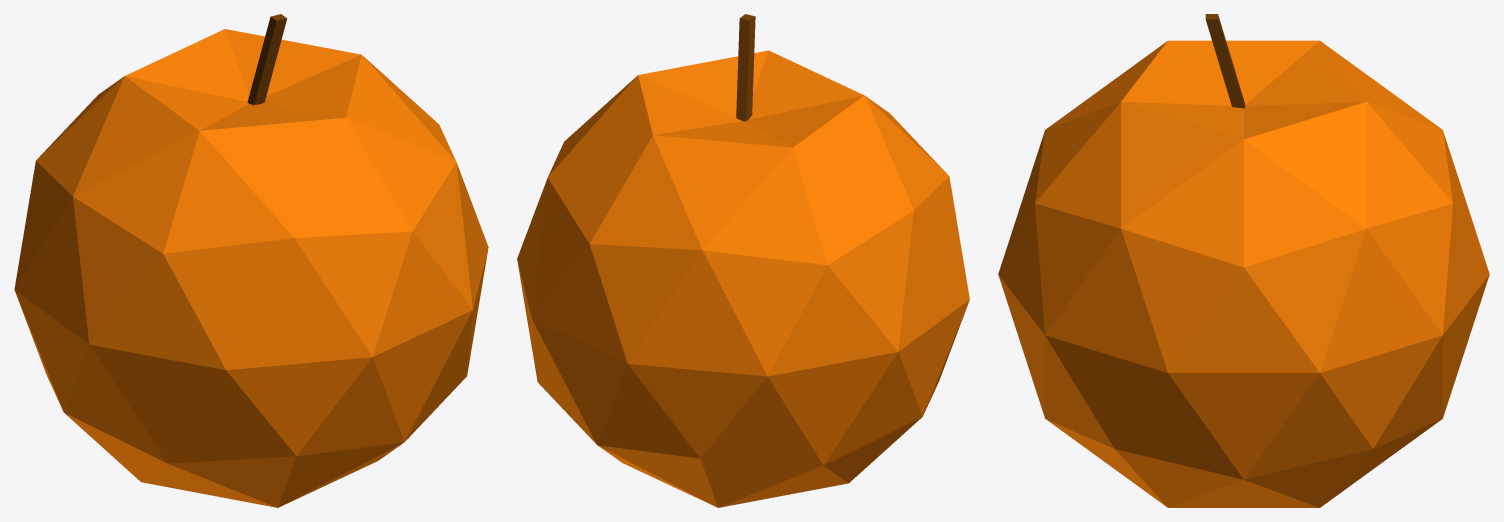
File: fruitOrange.fbx
3 views of the same model, side by side, from view 1: azimuth 30°, elevation 25°; view 2: azimuth 150°, elevation 25°; view 3: azimuth 270°, elevation 25° (orthographic). The views are drawn at different scales.
Parts seen in each view (by area): view 1: Icosphere; view 2: Icosphere; view 3: Icosphere.
Part boxes in pixels (left/top/right/bottom): Icosphere: left=14, top=14, right=488, bottom=507; Icosphere: left=517, top=14, right=969, bottom=507; Icosphere: left=998, top=14, right=1489, bottom=507.
Bounding box in the file's own units: 14.27 × 16.37 × 15.
